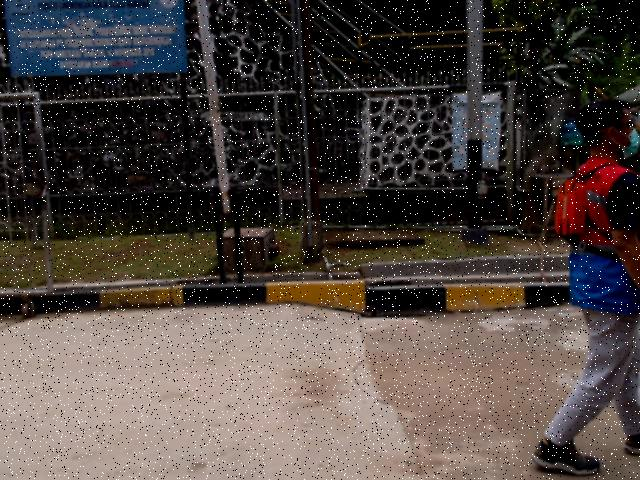glasses: (608, 117, 638, 132)
mask: (621, 131, 639, 161)
safety-shoes: (530, 434, 603, 479), (623, 427, 639, 462)
vest: (552, 176, 589, 241)
